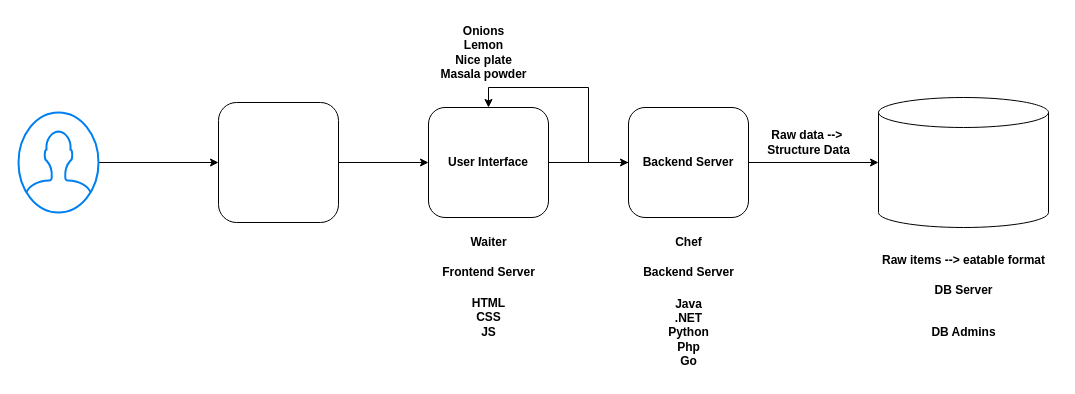
Image size: 1075x394. Some labels were removed from this diagram. Here are the shapes that lost their labels. From the top down, the centre of each, then its label:
the point at 278,162: Load Balancer
the point at 963,162: DB
